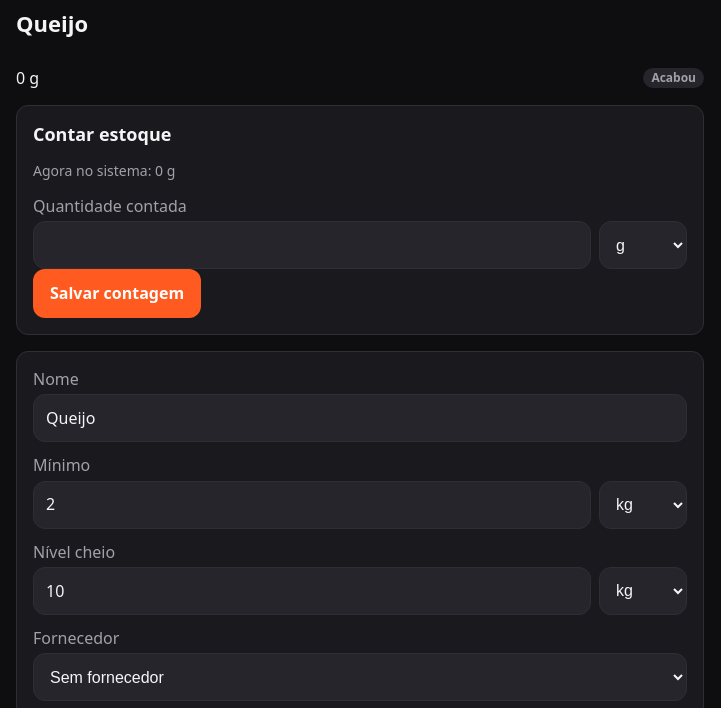
Test: Item do estoque › contar 1,5 kg manda 1500
The image size is (721, 708).
Type "1,5" into the field labelled "Quantidade contada" at point(312, 245), box x1=33 y1=221 x2=591 y2=269
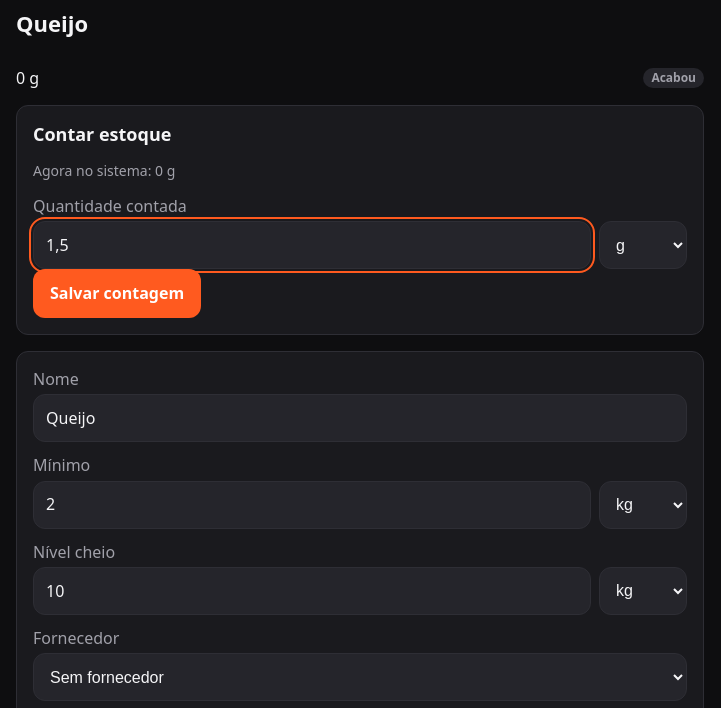
Select "kg" in the dropdown named "Unidade da quantidade contada" at point(643, 245), box x1=599 y1=221 x2=687 y2=269
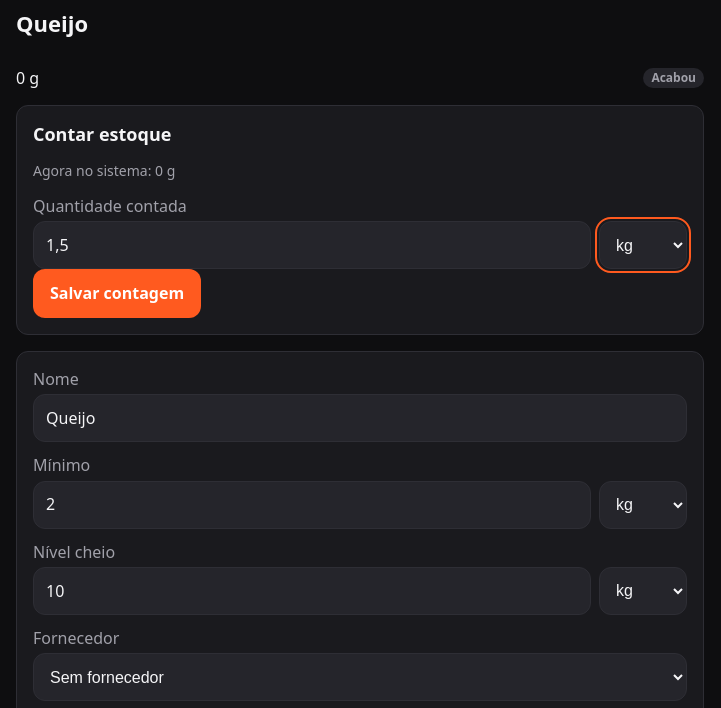
Click the button "Salvar contagem" at point(117, 294), box x1=33 y1=269 x2=201 y2=318
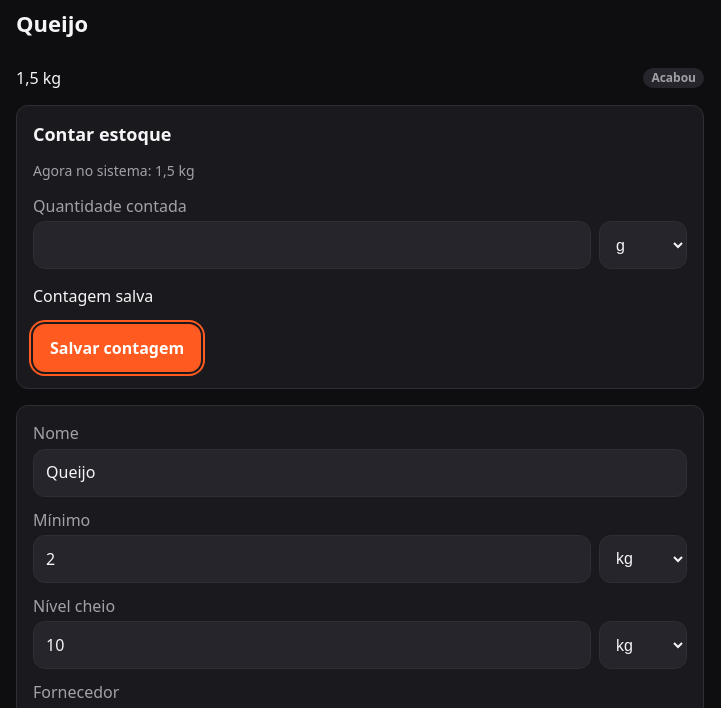
Expected: the message reads "Contagem salva", x1=33 y1=285 x2=153 y2=307
